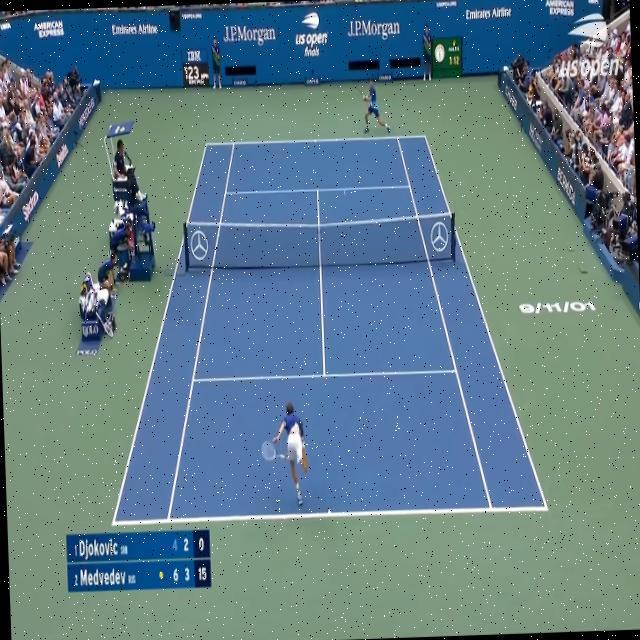Emirates: (111, 22, 136, 36)
